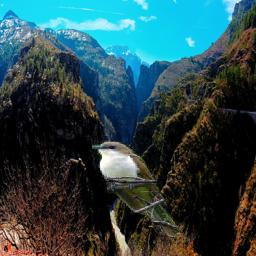Cuckoo: (93, 139, 184, 237)
